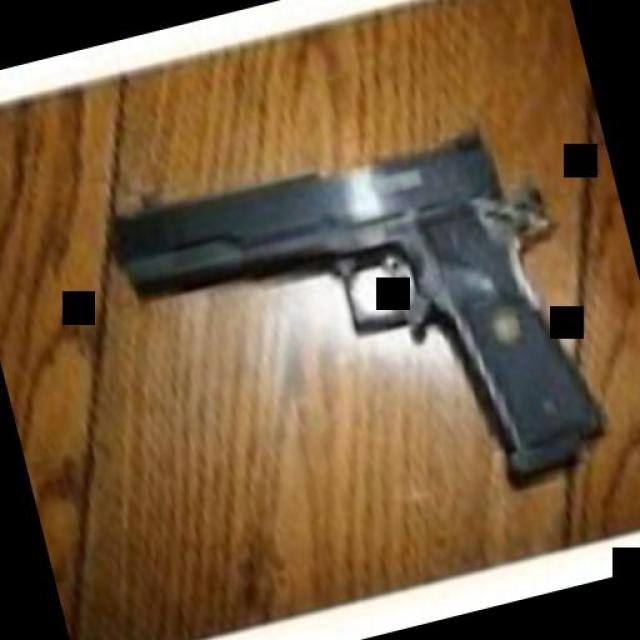gun: (95, 96, 619, 576)
